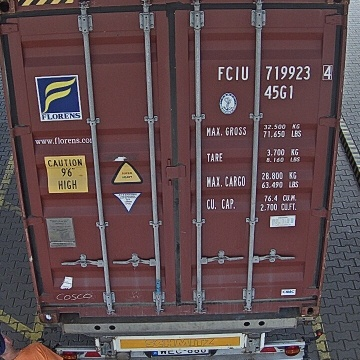serial_id: (218, 65, 332, 79)
